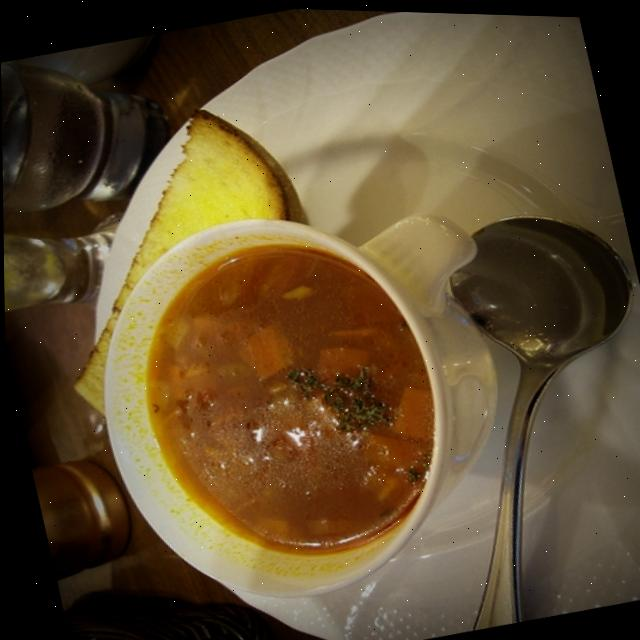汤锅炖物: (23, 113, 531, 640)
